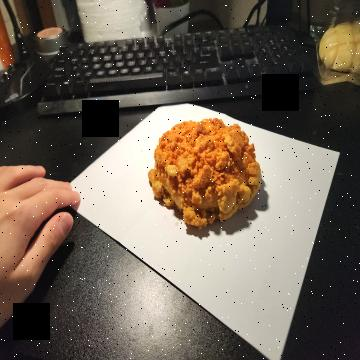soboru_bread: (146, 116, 265, 232)
